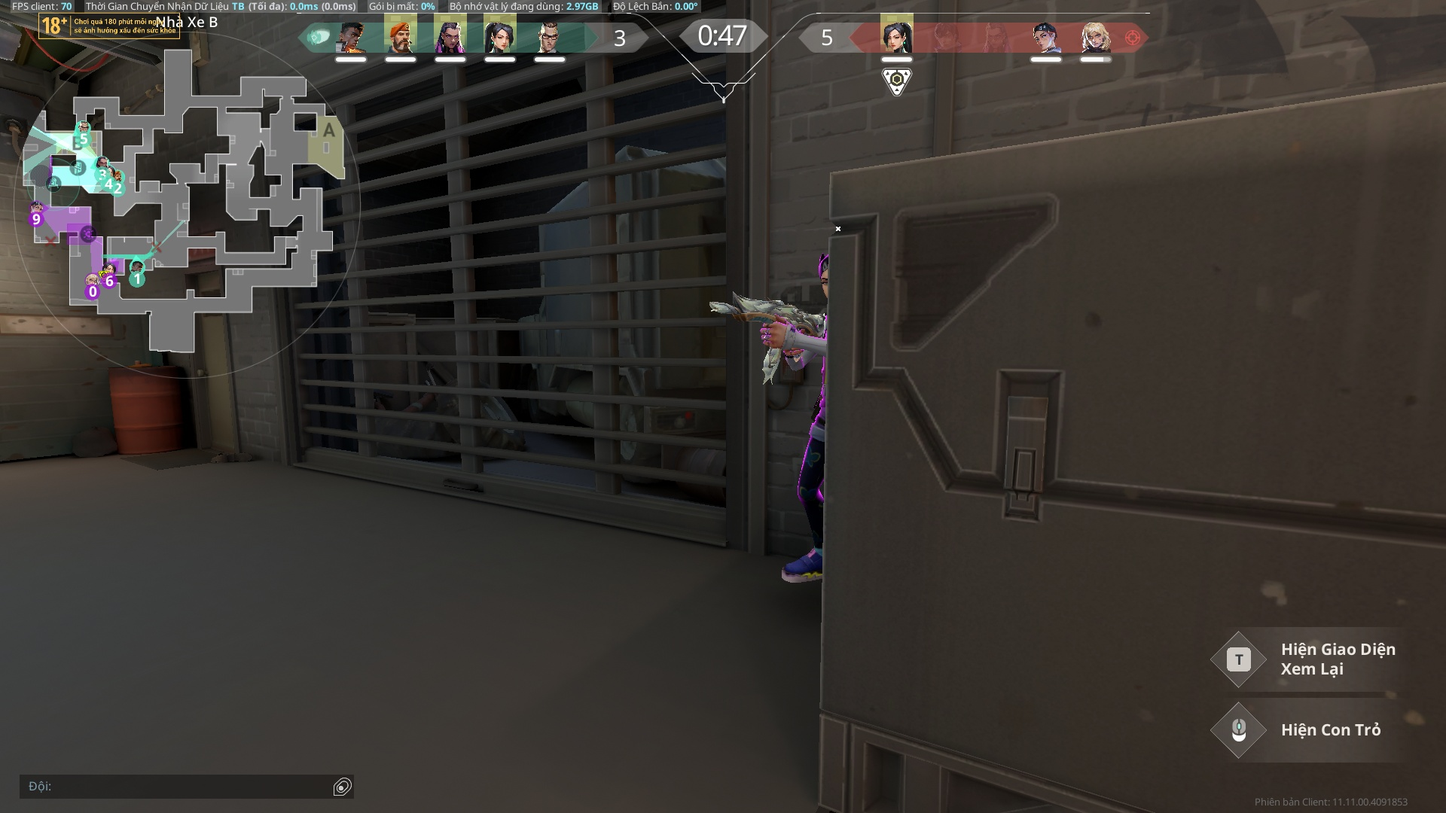body: (812, 307, 831, 413)
head: (816, 248, 830, 294)
